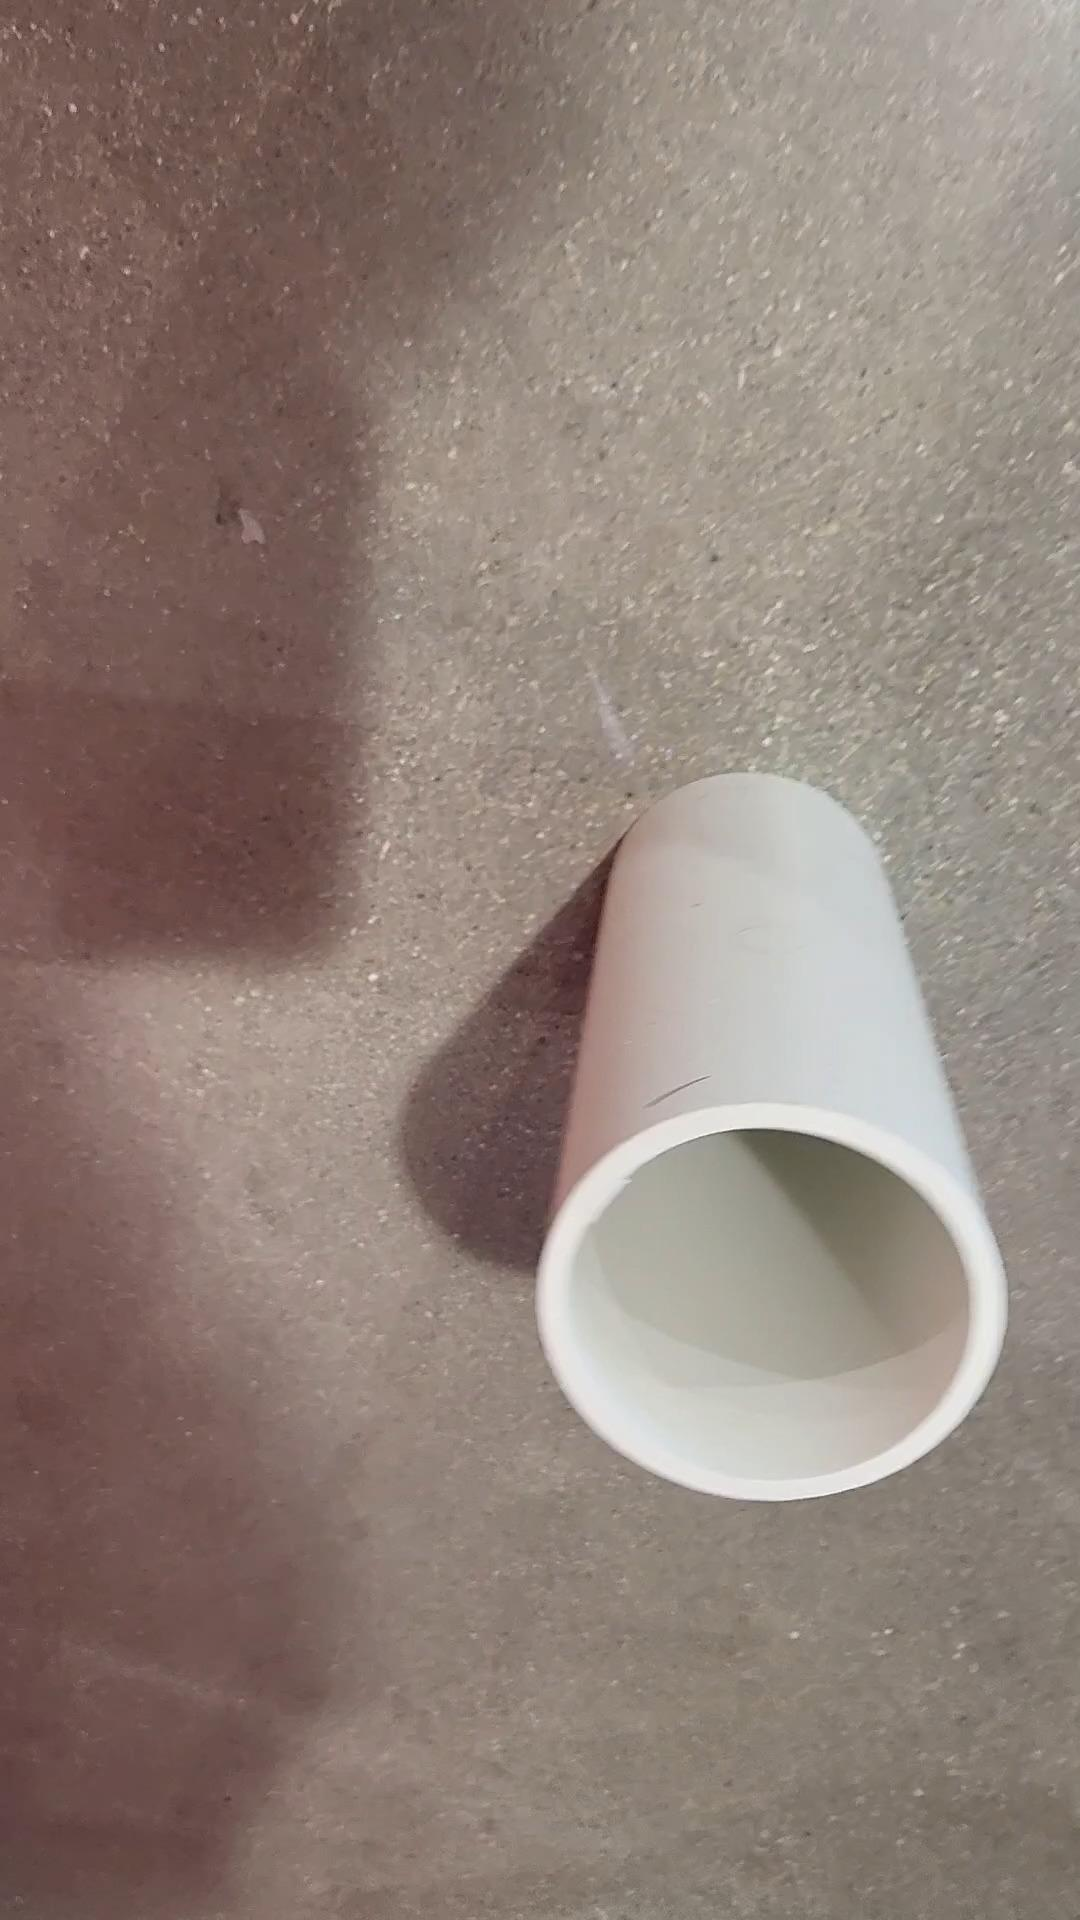coral: (533, 775, 1005, 1502)
